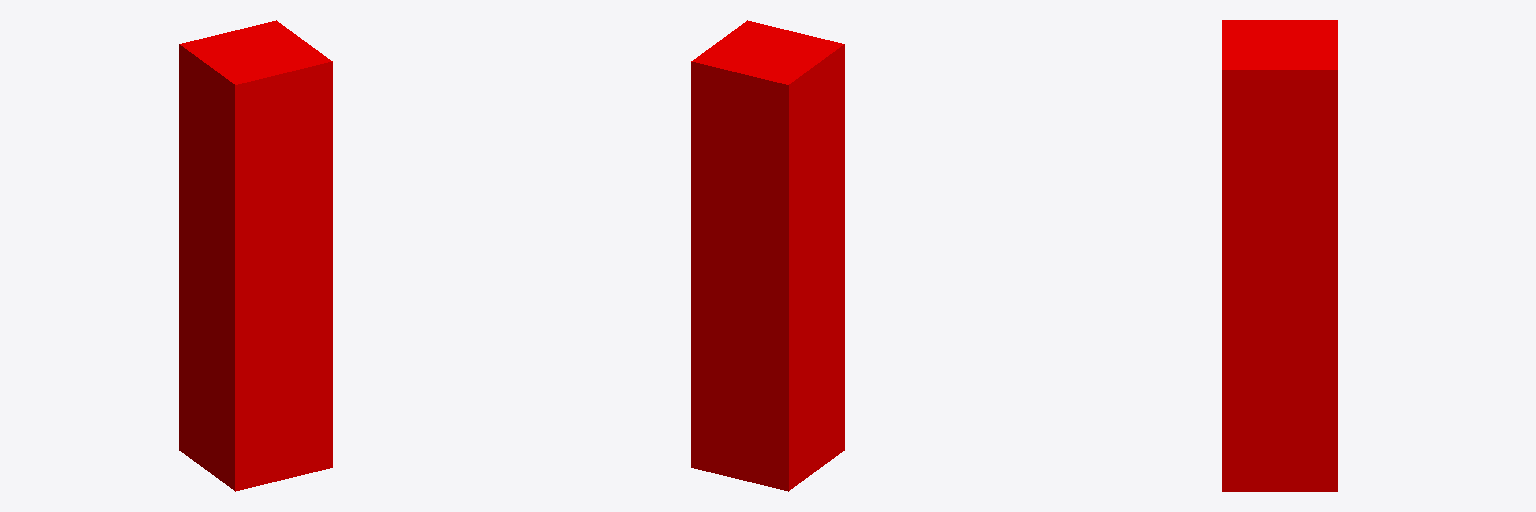
The robot description file, URDF, robot "stick":
<?xml version="1.0" ?>
<robot name="stick">
  <link name="baseLink">
    <contact>
      <lateral_friction value="1.0"/>
      <rolling_friction value="1.0"/>
      <spinning_friction value="1.0"/>
      <!--contact_cfm value="0.0"/-->
      <!--contact_erp value="1.0"/-->
    </contact>
    <inertial>
      <origin rpy="0 0 0" xyz="0 0 0"/>
       <mass value="1.0"/>
       <inertia ixx="1" ixy="0" ixz="0" iyy="1" iyz="0" izz="1"/>
    </inertial>
    <visual>
      <origin rpy="0 0 0" xyz="0 0 0"/>
      <geometry>
				<box size="0.02 0.02 0.08"/>
      </geometry>
       <material name="red">
        <color rgba="1 0 0 1"/>
      </material>
    </visual>
    <collision>
      <origin rpy="0 0 0" xyz="0 0 0"/>
      <geometry>
	 	  <box size="0.02 0.02 0.08"/>
      </geometry>
    </collision>
  </link>
</robot>

--- Facts derived from the render (not from the file) ---
The picture shows the robot from 3 angles, left to right: view 1: azimuth 30°, elevation 25°; view 2: azimuth 150°, elevation 25°; view 3: azimuth 270°, elevation 25°; orthographic projection.
Robot: stick — 1 links, 0 joints (none); root link baseLink; default pose: all joints at 0.
Visible links, largest first — view 1: baseLink; view 2: baseLink; view 3: baseLink.
Link boxes in pixels (bbox=[...]): baseLink: bbox=[179, 20, 332, 491]; baseLink: bbox=[691, 20, 844, 491]; baseLink: bbox=[1222, 20, 1337, 491].
Size in the robot's own frame: 0.02 by 0.02 by 0.08 metres.
Geometry: primitives only (box / cylinder / sphere), no mesh files.
